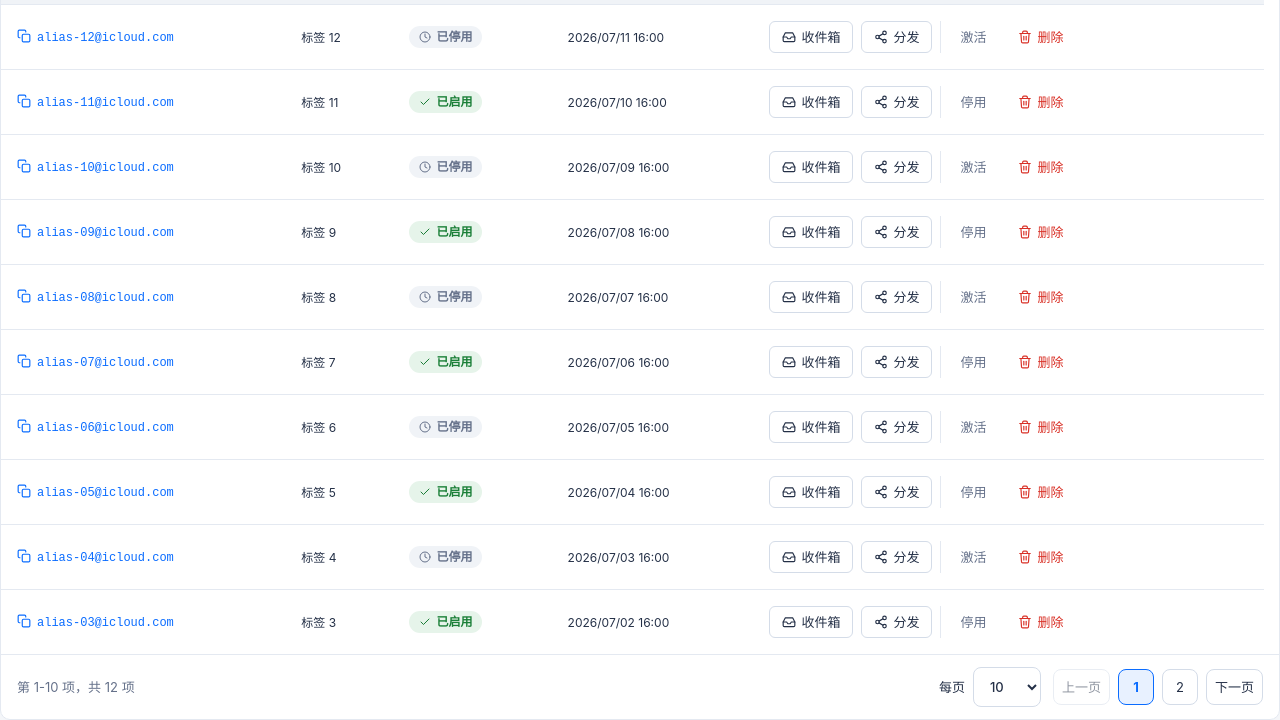
Scenario: AliasesPage › 别名先筛选排序再分页，搜索会回到第一页
(page scrolled)
Expected: the button "alias-12@icloud.com" is shown, [17,29,174,48]
Expected: the text "第 1-10 项，共 12 项" is shown, [17,677,135,698]
Click the button "下一页". click: (1234, 687)
box: [1206,669,1263,705]
(page scrolled)
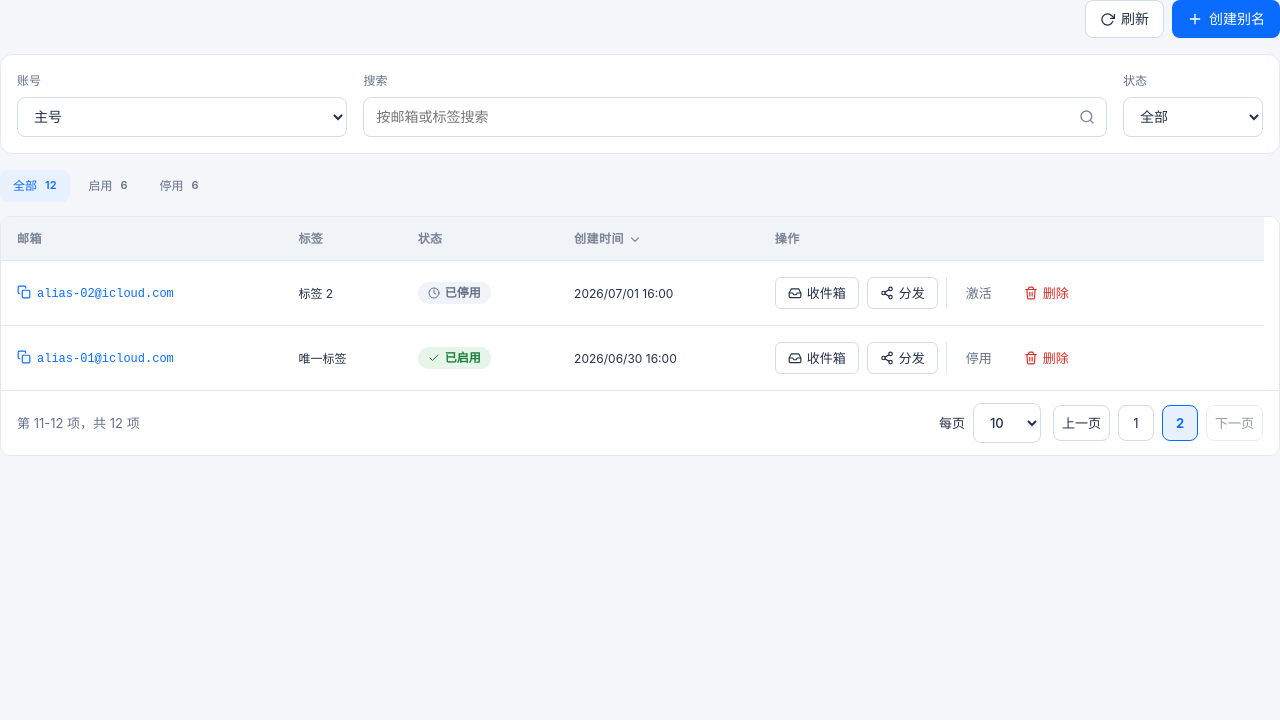
Expected: the button "alias-01@icloud.com" is shown, [17,350,174,369]
Type "唯一标签" into the search field labelled "搜索". click: (735, 117)
box: [364,97,1107,137]
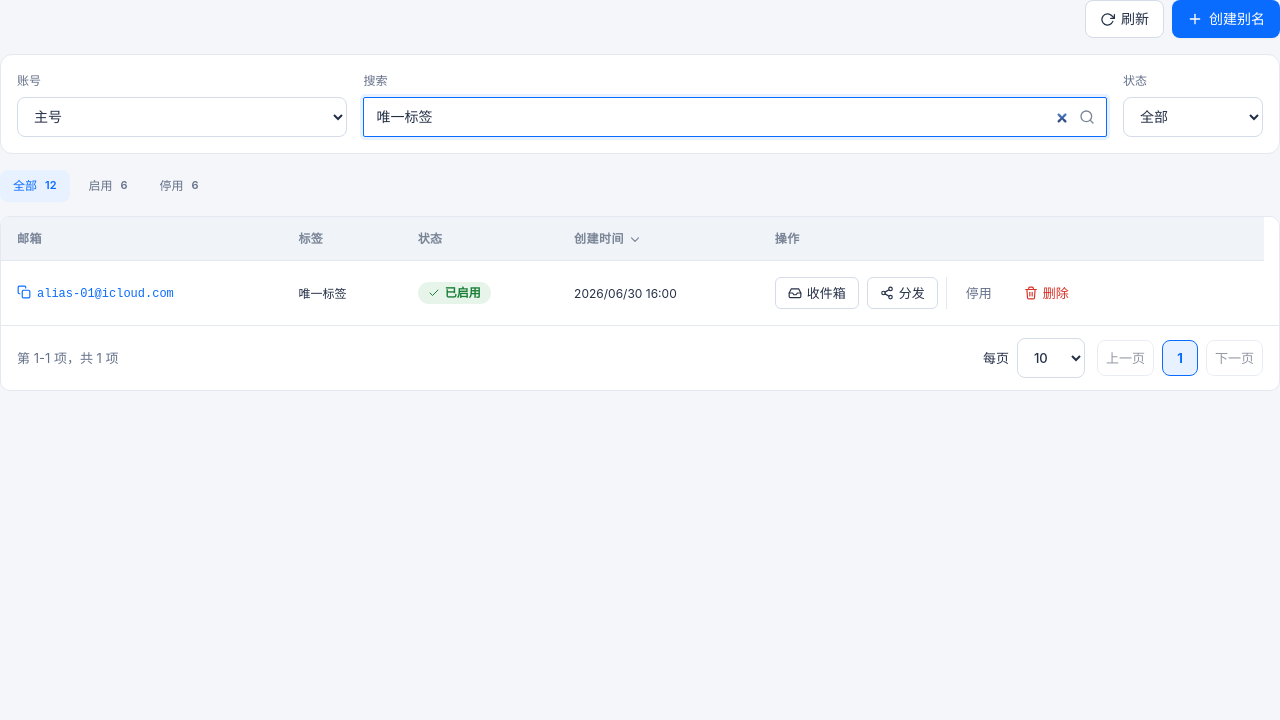
Expected: the button "alias-01@icloud.com" is shown, [17,285,174,304]
Expected: the text "第 1-1 项，共 1 项" is shown, [17,348,118,369]
